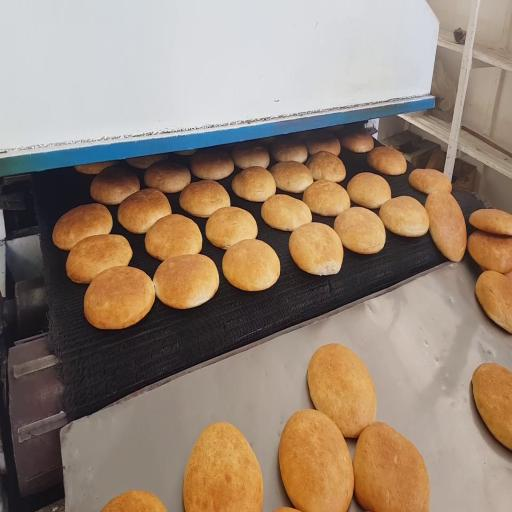bread: (279, 410, 353, 511), (183, 423, 263, 511), (353, 422, 429, 511), (308, 344, 376, 438), (84, 267, 154, 329), (153, 255, 219, 309), (472, 363, 511, 450), (66, 235, 132, 283), (425, 190, 467, 262), (223, 239, 280, 291), (289, 223, 343, 275), (53, 204, 112, 250), (145, 214, 202, 260), (334, 207, 385, 254), (118, 189, 171, 233), (476, 271, 511, 333), (206, 207, 257, 249), (379, 196, 429, 237), (90, 165, 140, 204), (179, 180, 230, 217), (261, 194, 311, 231), (468, 231, 511, 274), (303, 180, 350, 216), (347, 173, 391, 209), (232, 167, 276, 201), (144, 161, 190, 193), (270, 161, 313, 193), (191, 149, 234, 179), (102, 491, 166, 511), (307, 151, 346, 182), (367, 147, 406, 175), (469, 209, 511, 235), (409, 169, 451, 194), (232, 142, 269, 169), (271, 137, 307, 163), (306, 131, 340, 156), (340, 130, 374, 153), (126, 154, 168, 169), (75, 161, 118, 174), (176, 150, 195, 155), (274, 507, 297, 511)
